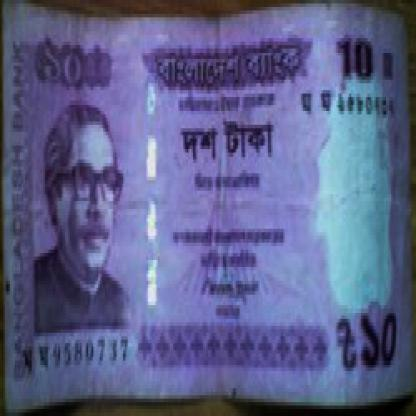Ten Taka: (26, 35, 92, 97), (356, 284, 404, 368), (328, 31, 386, 97)
